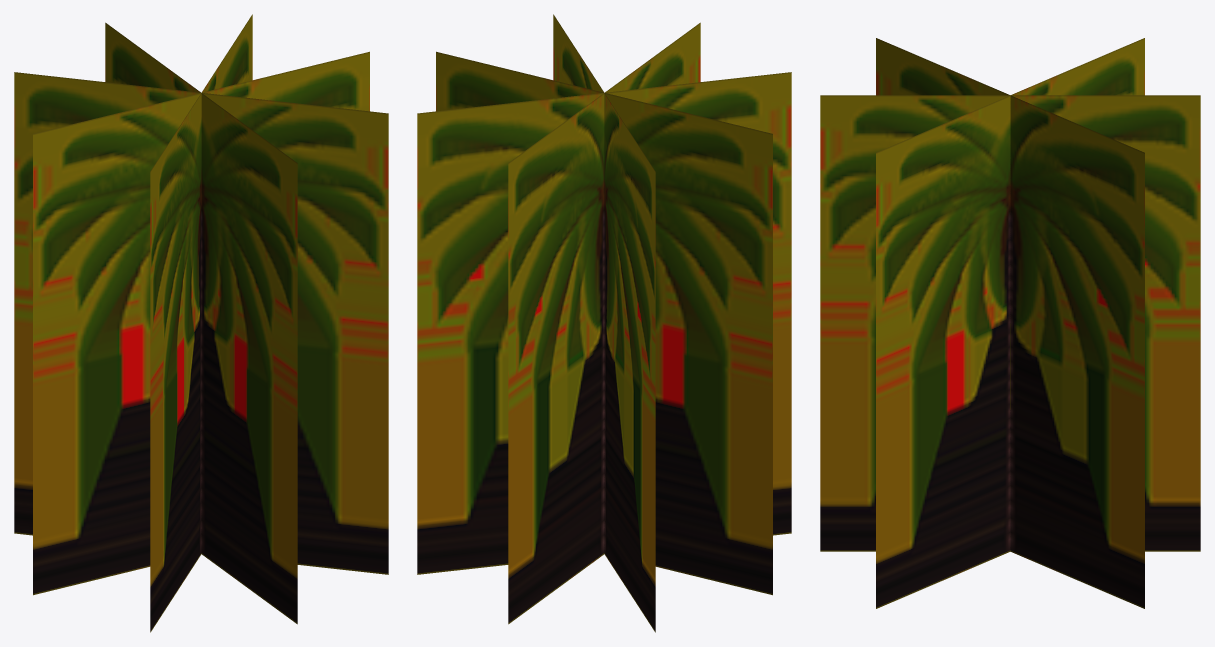
File: palm_large.fbx
The picture shows the model from 3 angles, left to right: view 1: azimuth 30°, elevation 25°; view 2: azimuth 150°, elevation 25°; view 3: azimuth 270°, elevation 25°; orthographic projection.
Visible parts, largest first — view 1: palm_large; view 2: palm_large; view 3: palm_large.
Boxes of the visible parts, <box> form: palm_large: <box>14,14,388,632</box>; palm_large: <box>417,14,791,632</box>; palm_large: <box>820,38,1200,608</box>.
Size of the model in its own units: 742 by 971 by 733.
1 material, 1 textured.
